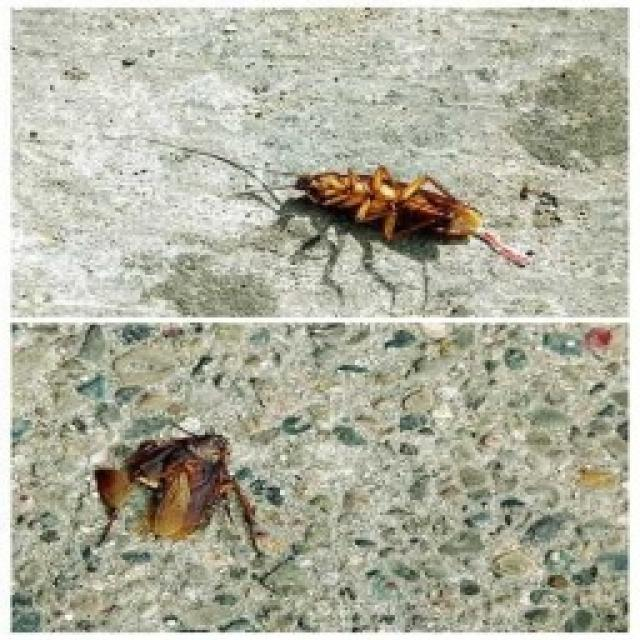cockroach: (273, 153, 529, 293), (106, 390, 275, 586)
